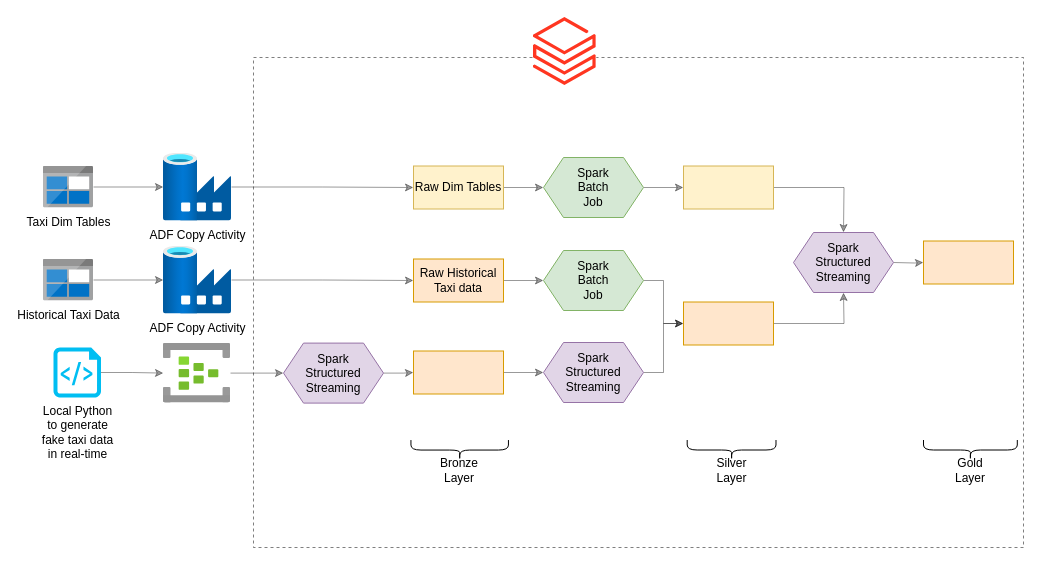
The diagram is 1041 pixels wide and 565 high, and some of its shapes have lost their labels. Each missing label, with the box of its shape:
Aggregated Tables: (922, 240, 1014, 284)
Cleaned Dim Tables: (682, 165, 774, 209)
Databricks Workspace: (533, 17, 596, 85)
Event Hubs for Real-time Taxi Data: (163, 343, 230, 403)
Raw Real-time Taxi data: (412, 350, 504, 394)
Unified Taxi Data: (682, 301, 774, 345)
